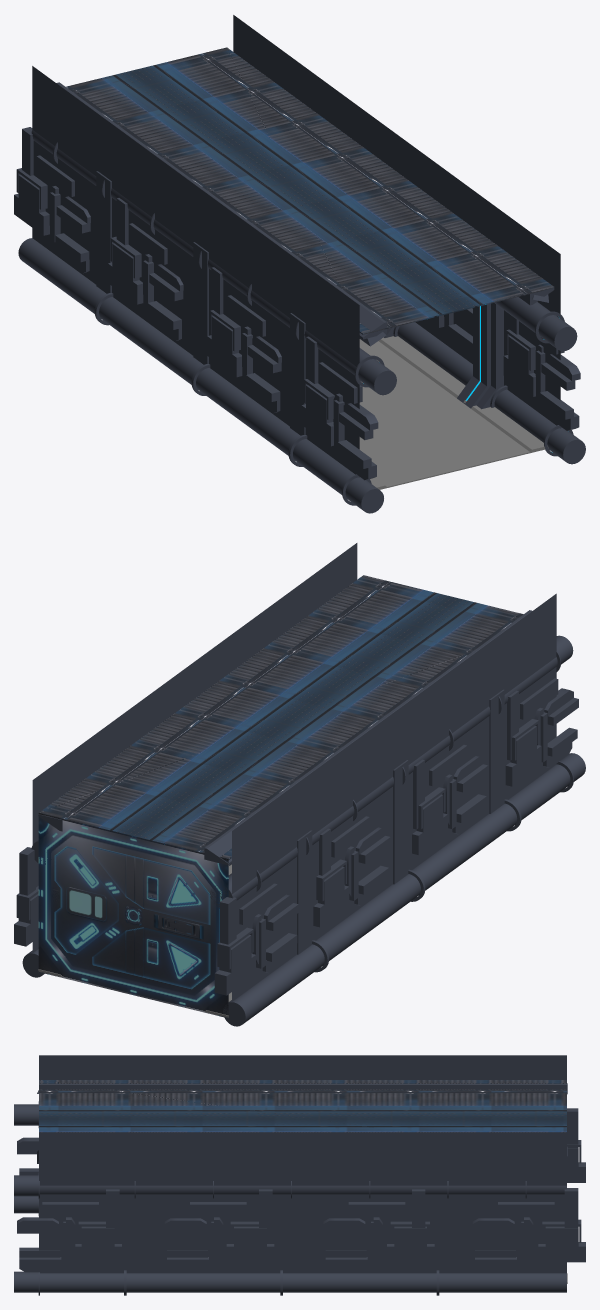
The model's file is 3d tunnel 02.fbx.
The picture shows the model from 3 angles, top to bottom: view 1: azimuth 30°, elevation 25°; view 2: azimuth 150°, elevation 25°; view 3: azimuth 270°, elevation 25°; orthographic projection. The views are drawn at different scales.
Visible parts, largest first — view 1: Object002, Object003, Object004, Object001, Cylinder004, Cylinder003, Cylinder002, Rectangle001, Box022, Cylinder001, Rectangle006, Box031 (+12 smaller); view 2: Object002, Object003, Box001, Object004, Cylinder004, Cylinder002, Box031, Box034, Box035, Rectangle006, Rectangle011, Rectangle024 (+11 smaller); view 3: Object004, Object002, Object003, Cylinder003, Cylinder001, Rectangle006, Rectangle028, Rectangle030, Rectangle032, Rectangle026, Box092, Box107 (+26 smaller).
Boxes of the visible parts, x1,y1,x2,y2 form: Object002: (66,47,554,334); Object003: (32,66,359,474); Object004: (233,15,560,425); Object001: (359,339,548,489); Cylinder004: (18,238,383,513); Cylinder003: (397,322,585,464); Cylinder002: (31,130,396,395); Rectangle001: (379,336,548,451); Box022: (457,303,490,408); Cylinder001: (494,297,577,351); Rectangle006: (56,82,386,339); Box031: (193,242,208,364); Object002: (39,575,523,860); Object003: (232,593,556,1001); Box001: (38,813,228,1018); Object004: (32,543,357,952); Cylinder004: (223,753,585,1026); Cylinder002: (210,635,573,907); Box031: (393,760,408,884); Box034: (297,830,312,954); Box035: (489,689,504,813); Rectangle006: (204,610,531,865); Rectangle011: (214,935,255,995); Rectangle024: (505,726,541,786); Object004: (39,1132,566,1273); Object002: (39,1080,566,1132); Object003: (39,1055,566,1079); Cylinder003: (14,1271,566,1292); Cylinder001: (14,1175,566,1196); Rectangle006: (39,1083,567,1094); Rectangle028: (538,1226,585,1262); Rectangle030: (226,1226,274,1262); Rectangle032: (74,1226,121,1262); Rectangle026: (387,1226,434,1262); Box092: (348,1202,405,1216); Box107: (42,1202,98,1216).
Bounding box in the file's own units: 5514 × 4597 × 14661.
8 materials, 3 textured.
